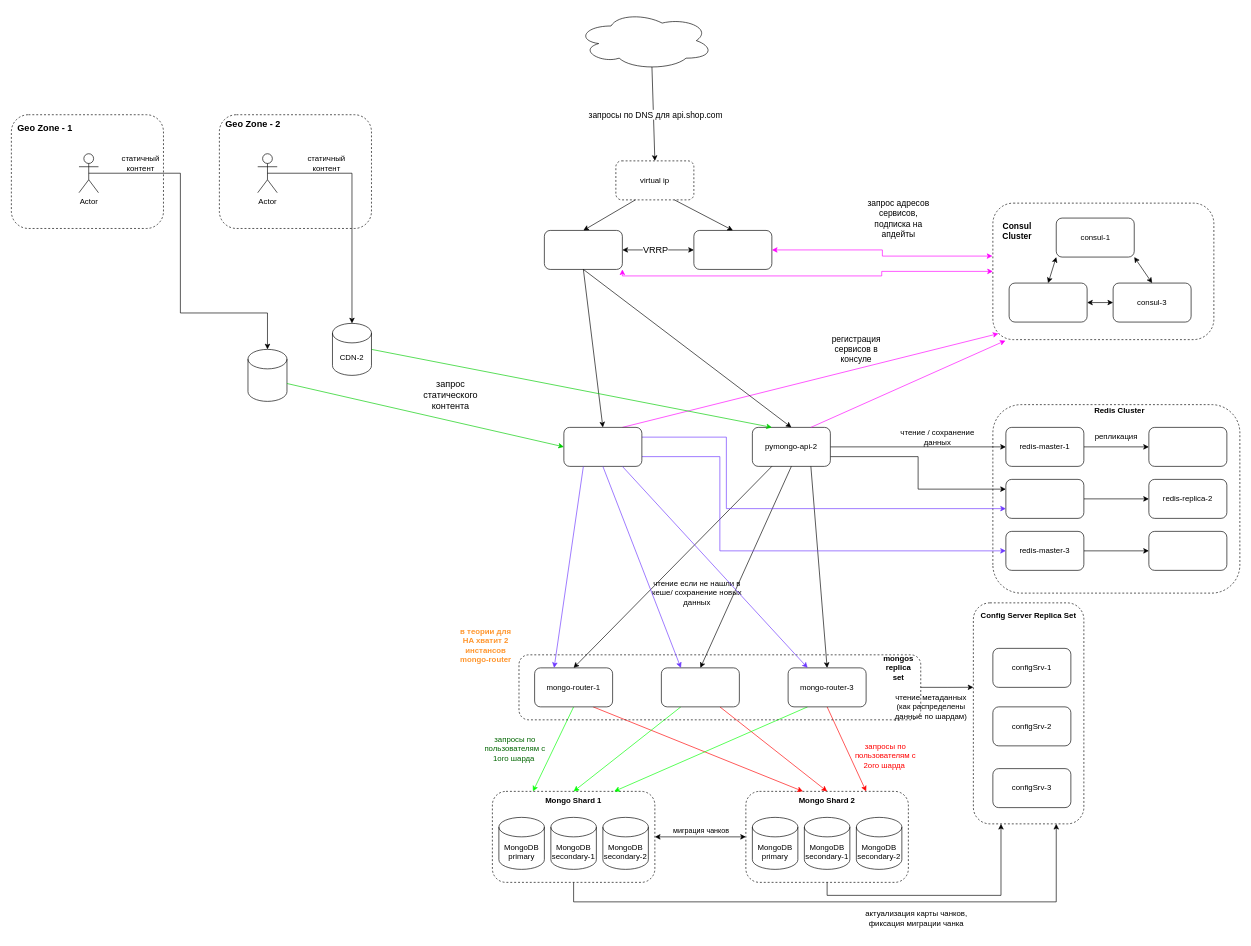
Image size: 1251x946. Some labels were removed from this diagram. The shapes that lost their labels are listed below. From the top down, each one's box as (x1, y1, x2, y2) in pixels, then its label:
(576, 11, 713, 70): interntet
(544, 230, 622, 269): api-gateway-1 (master)
(693, 230, 772, 269): api-gateway-2 (backup)
(1008, 282, 1087, 322): consul-2
(247, 349, 287, 401): CDN-1
(563, 427, 642, 466): pymongo-api-1
(1148, 427, 1227, 466): redis-replica-1
(1005, 479, 1084, 518): redis-master-2
(1148, 531, 1227, 570): redis-replica-3
(661, 667, 739, 707): mongo-router-2
